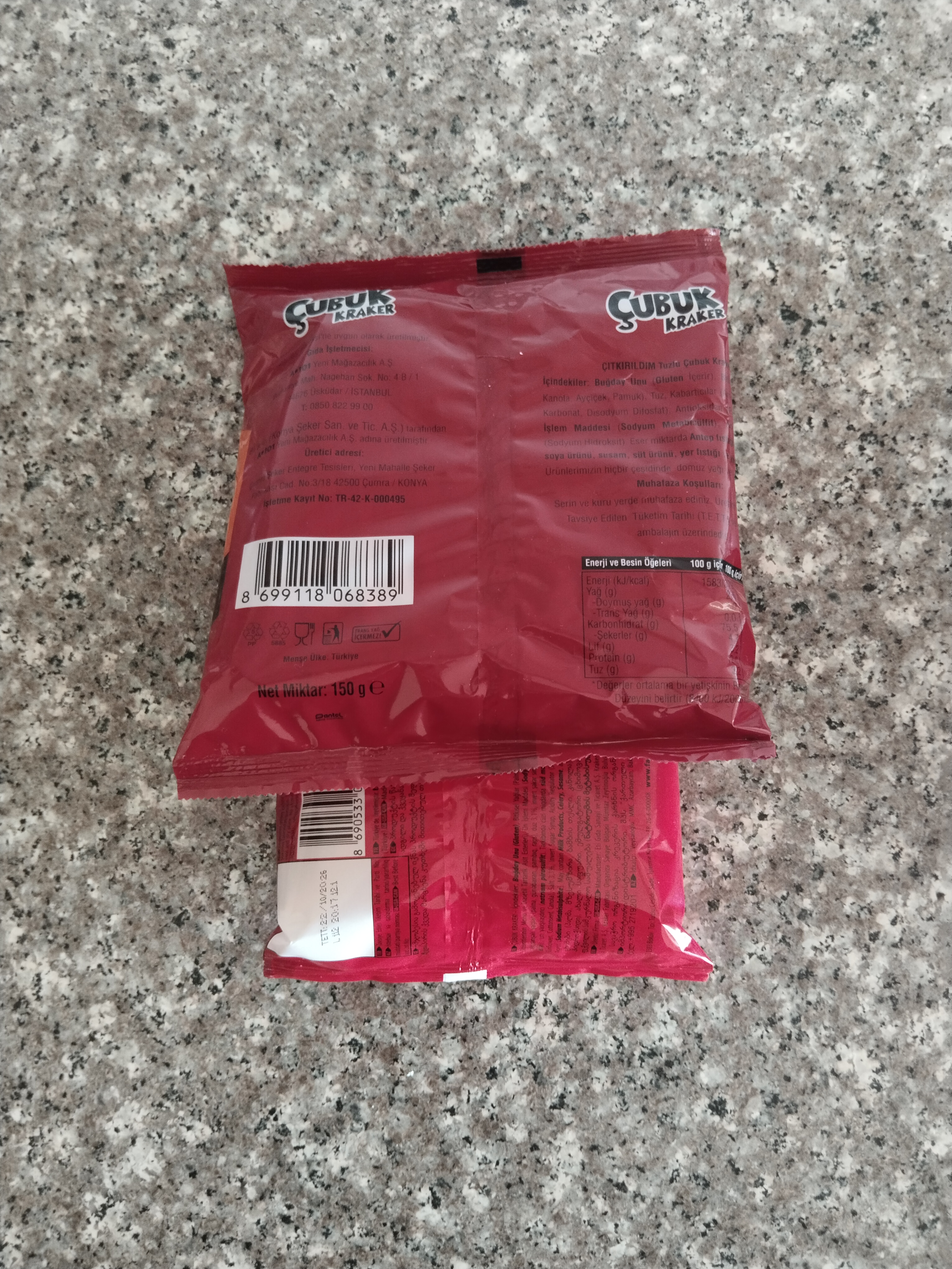citkirildim_cubuk_kraker: (178, 226, 761, 793)
eti_crax_cubuk_kraker: (263, 754, 708, 981)
